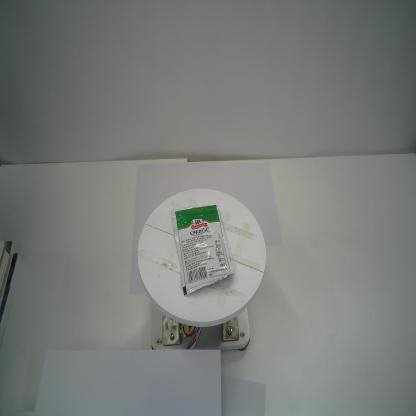Seasoner: (171, 202, 235, 297)
